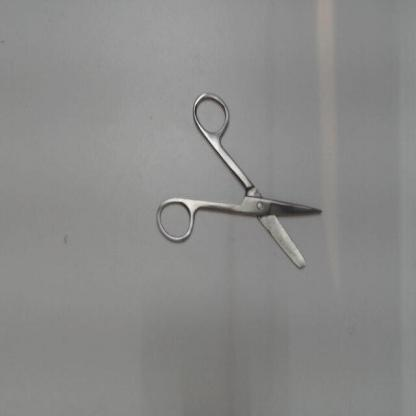Dressing Scissors: (149, 85, 337, 282)
